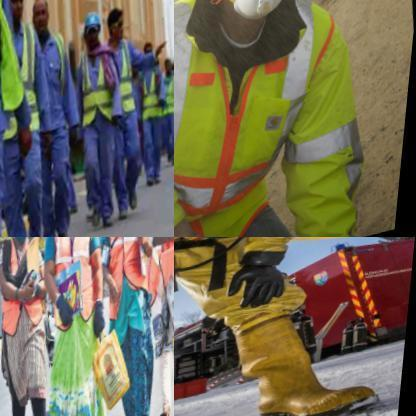vest: (174, 0, 399, 236), (174, 237, 351, 361), (42, 237, 112, 339), (0, 24, 55, 149), (97, 237, 163, 322), (0, 238, 56, 337), (31, 30, 82, 134), (0, 0, 40, 128), (76, 45, 128, 135), (113, 37, 147, 119), (140, 70, 173, 131), (164, 78, 173, 125)
